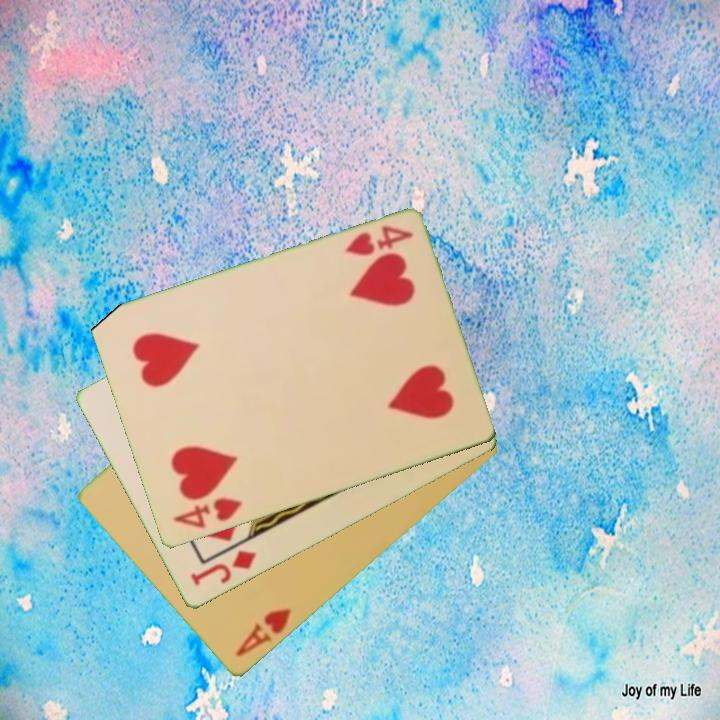4h: (168, 494, 245, 533), (342, 222, 416, 260)
Ah: (232, 605, 294, 660)
Jd: (186, 547, 260, 590)
